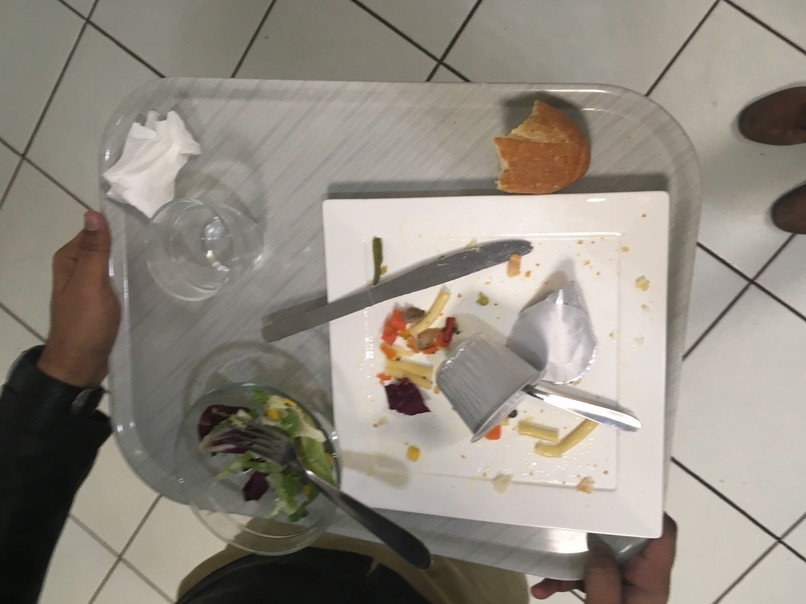cup: (122, 198, 265, 292)
cutlery: (230, 424, 437, 578), (261, 239, 532, 347), (520, 380, 655, 434)
orga: (209, 405, 338, 527), (478, 87, 601, 201), (374, 298, 455, 432)
trash: (438, 335, 562, 448), (499, 296, 612, 380), (101, 117, 197, 211)
